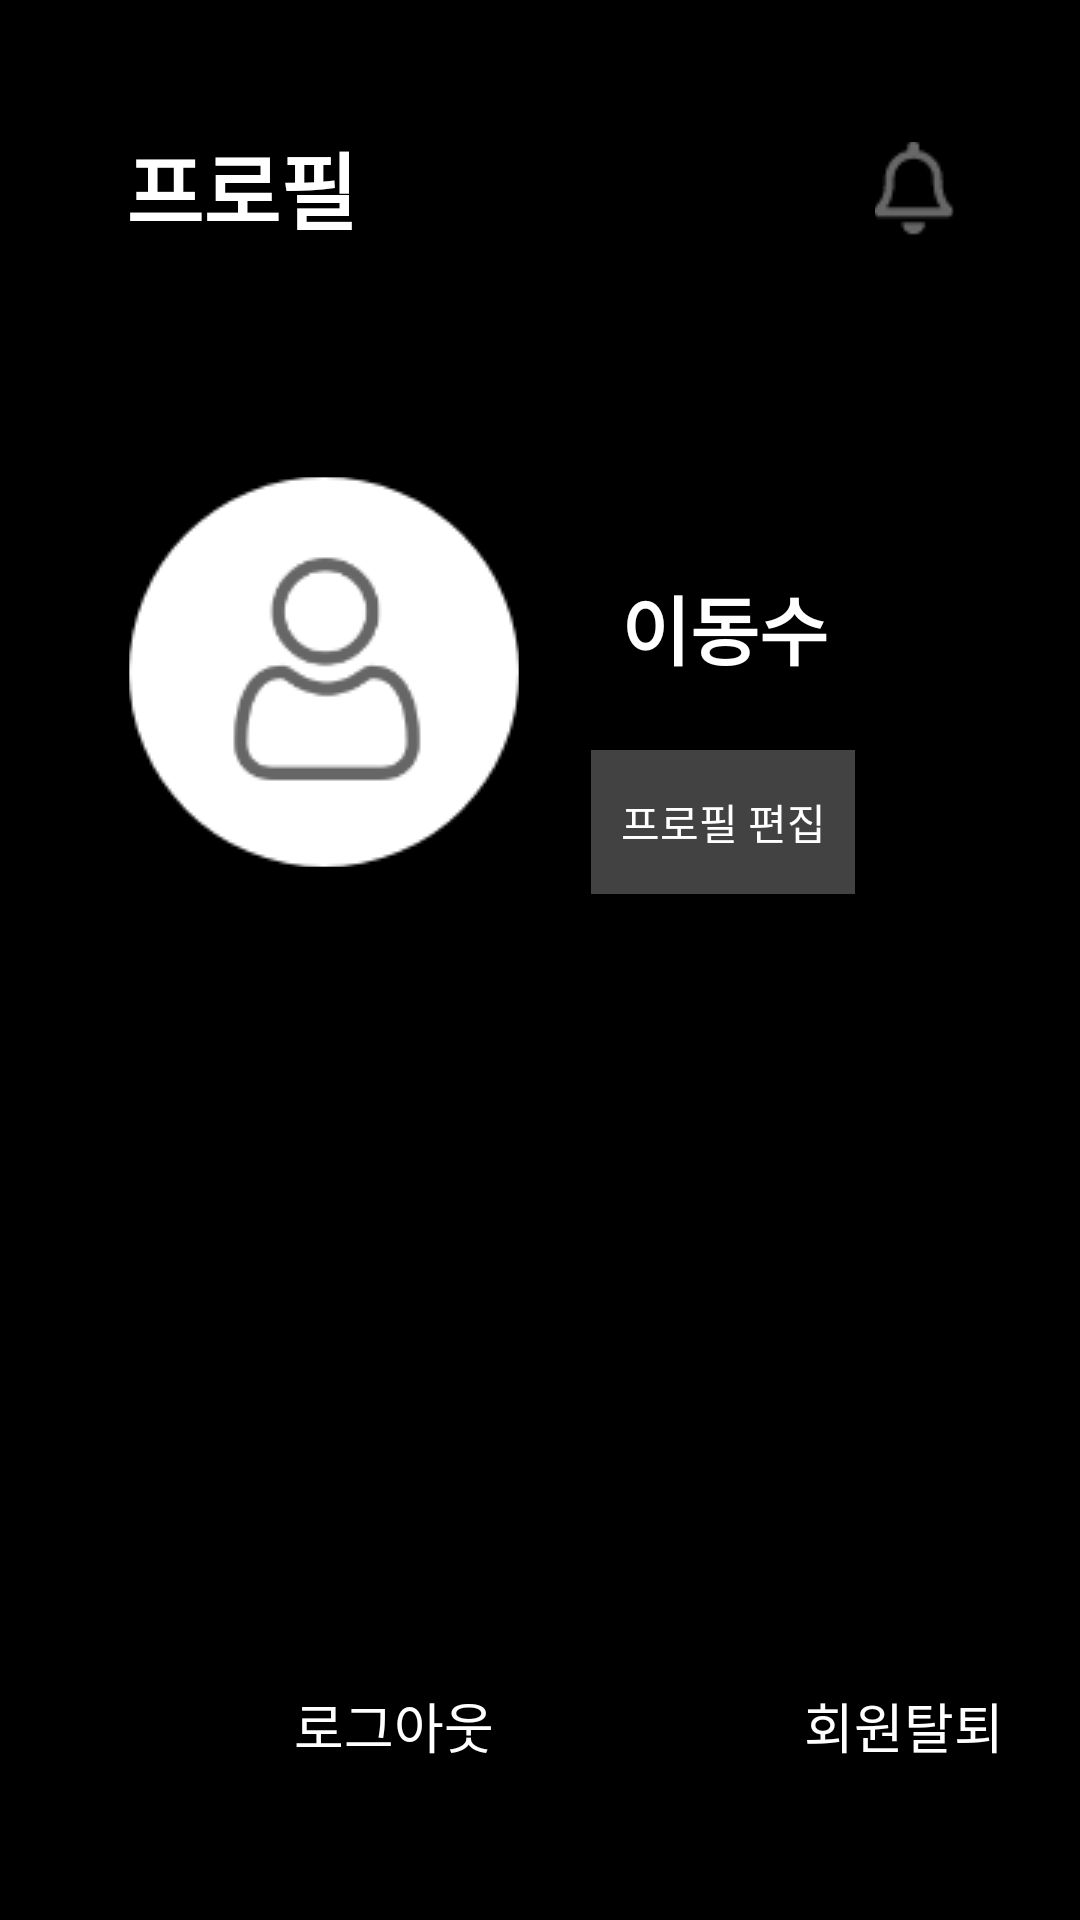

Point at icon controls on the screen. Image size 1080×1920, points as point (x, y).
font awsome bell: point (914, 188)
